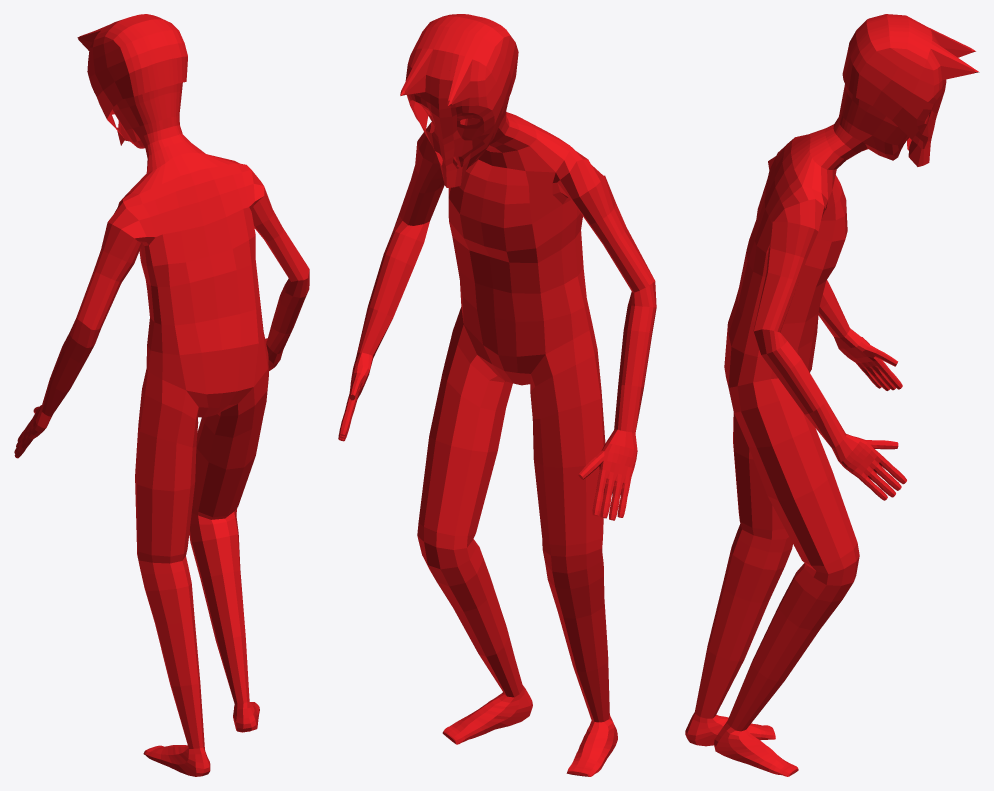
The model's file is marchaE_000048.obj.
3 views of the same model, side by side, from view 1: azimuth 30°, elevation 25°; view 2: azimuth 150°, elevation 25°; view 3: azimuth 270°, elevation 25° (orthographic). The views are drawn at different scales.
Parts seen in each view (by area): view 1: Plane.002_Plane.001; view 2: Plane.002_Plane.001; view 3: Plane.002_Plane.001.
Boxes of the visible parts, left/top/right/bottom form: Plane.002_Plane.001: left=14, top=14, right=309, bottom=776; Plane.002_Plane.001: left=338, top=14, right=656, bottom=776; Plane.002_Plane.001: left=685, top=14, right=979, bottom=776.
Bounding box in the file's own units: 2.57 × 6.73 × 2.43.
